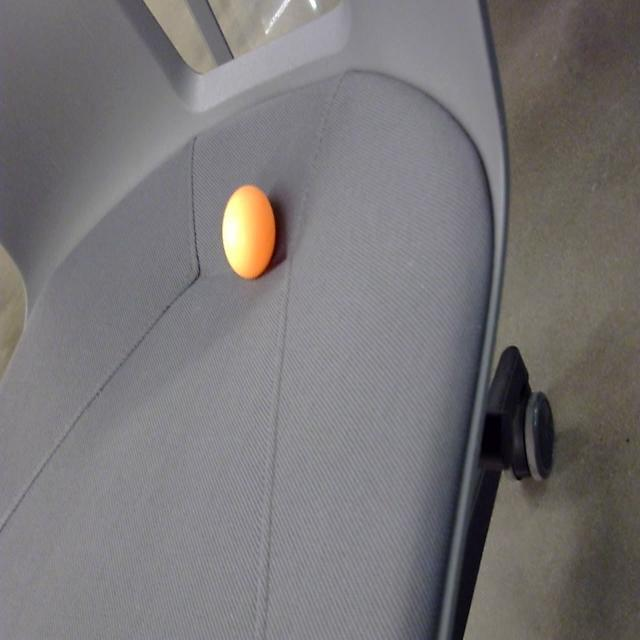ball: (222, 184, 276, 280)
